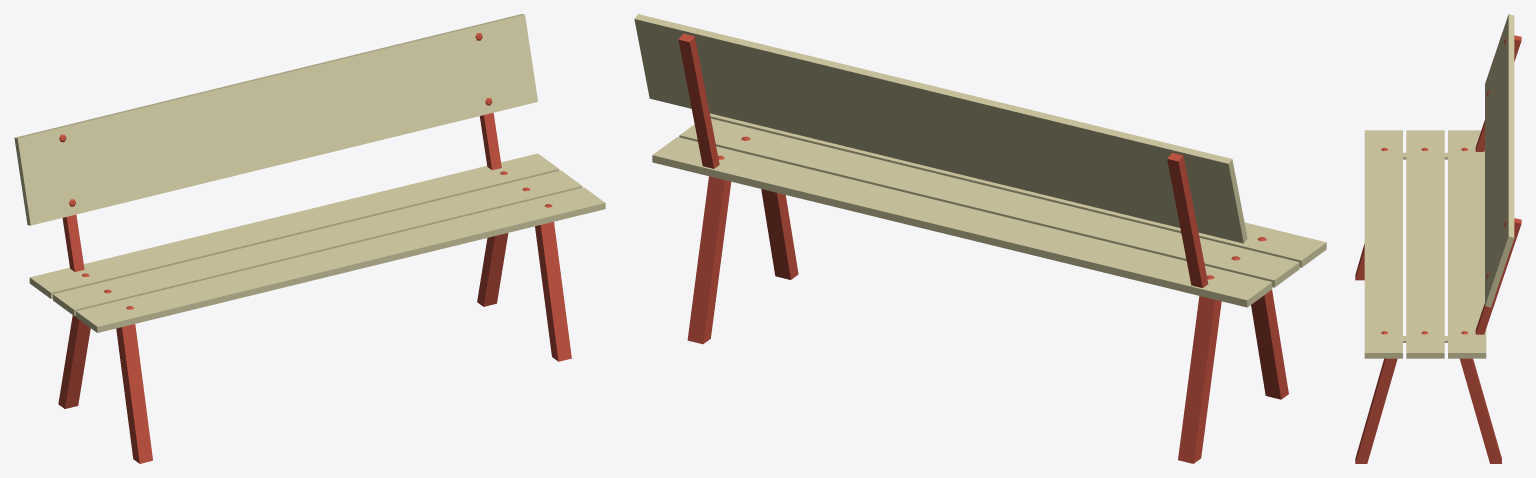
File: SM_Bench_02.fbx
3 renders of one model, left to right at view 1: azimuth 30°, elevation 25°; view 2: azimuth 150°, elevation 25°; view 3: azimuth 270°, elevation 25°, orthographic. The views are drawn at different scales.
Parts seen in each view (by area): view 1: SM_Bench_02; view 2: SM_Bench_02; view 3: SM_Bench_02.
Boxes of the visible parts, box(x1,y1,x2,y2) form: SM_Bench_02: box(14, 14, 605, 463); SM_Bench_02: box(634, 14, 1326, 463); SM_Bench_02: box(1355, 14, 1521, 463).
Size of the model in its own units: 189 by 96.62 by 59.48.
